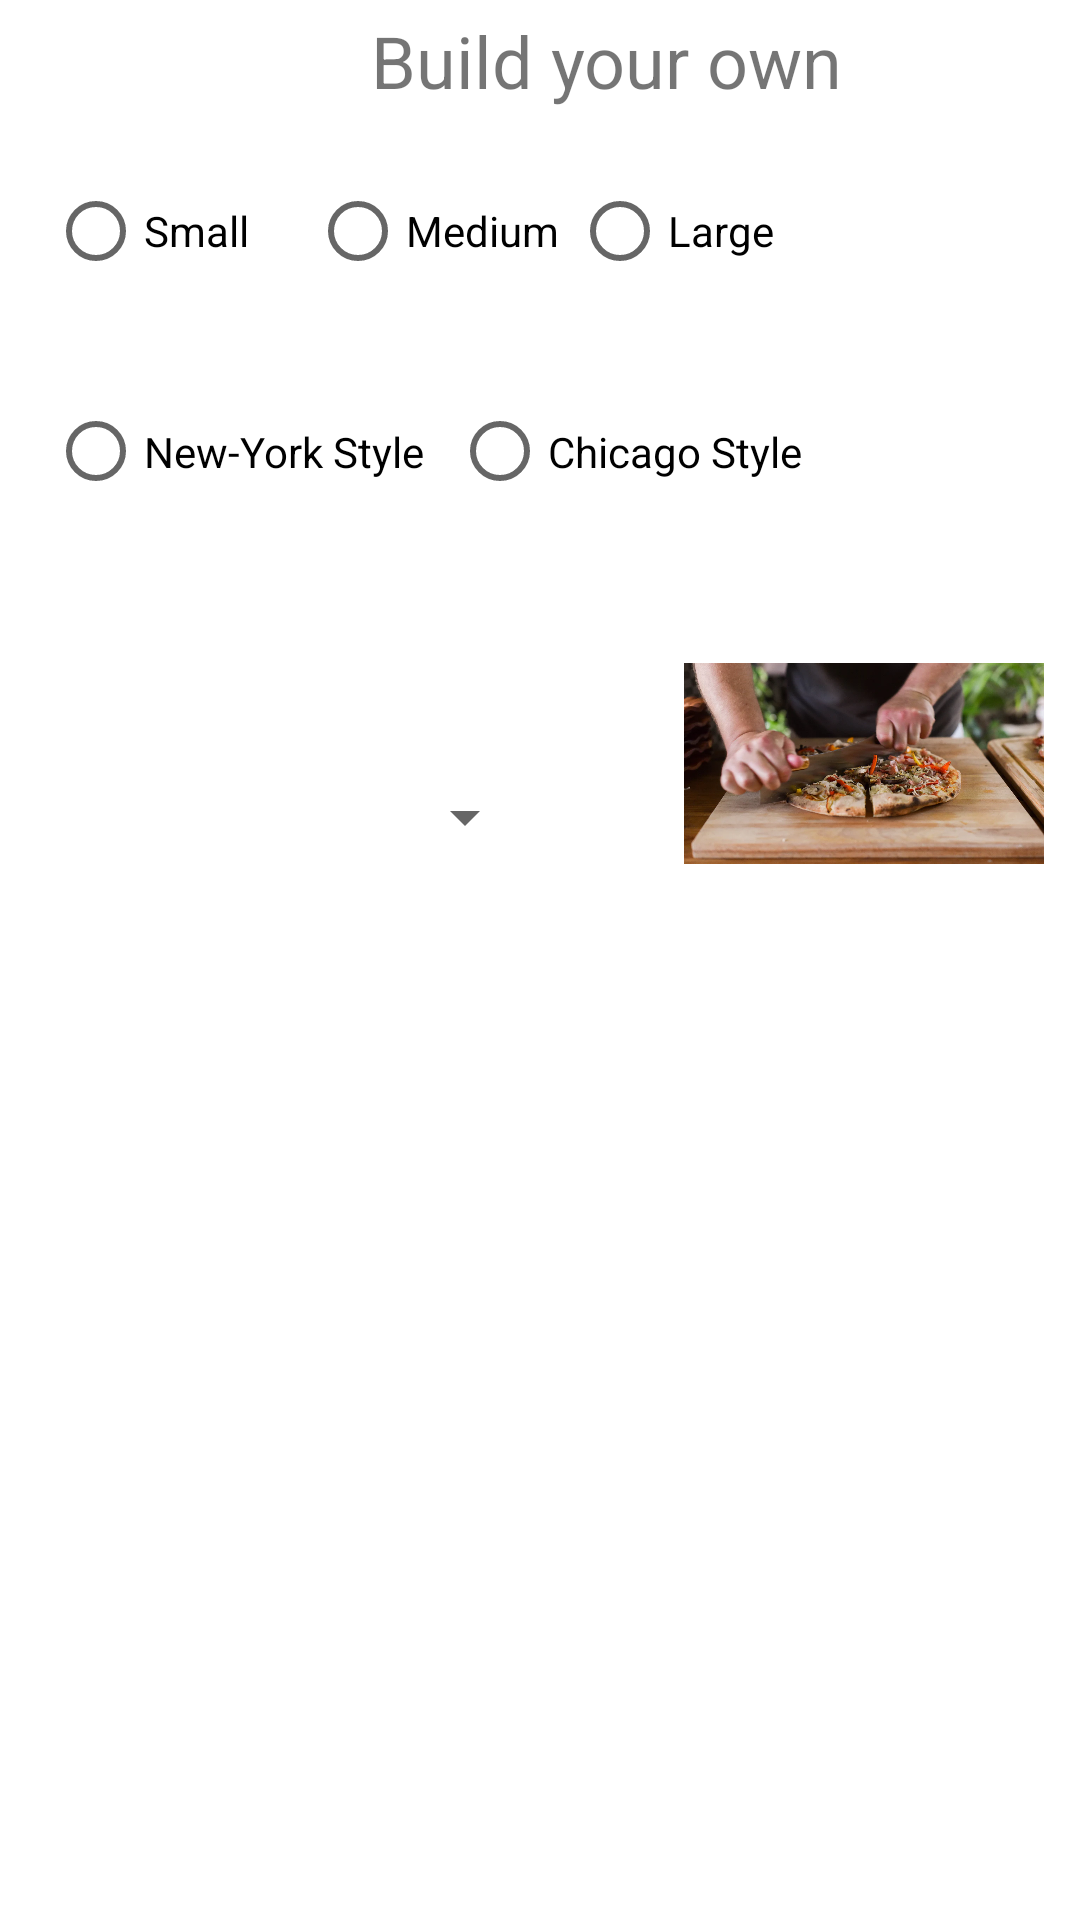

Screen size 1080w x 1920h. Icon name, then its box in pixels as (x1, y1, x2, y2):
this is the picture of this pizza: (684, 663, 1044, 864)
